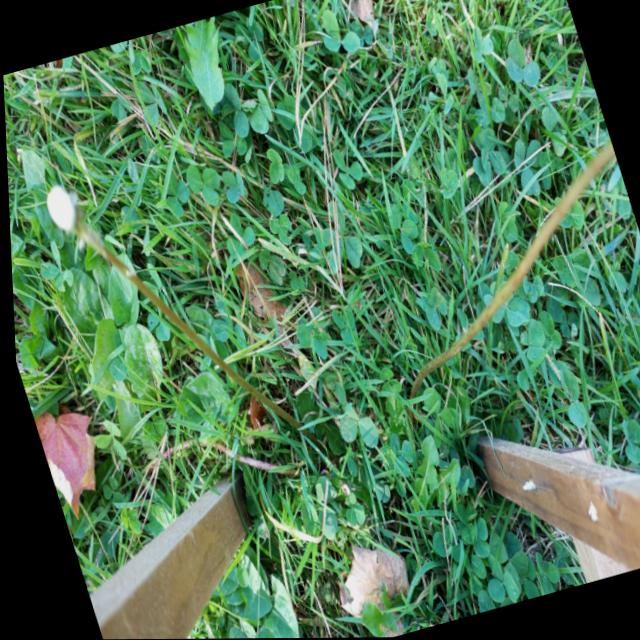base: (293, 418, 329, 464), (389, 384, 423, 430)
flower: (38, 179, 84, 239)
